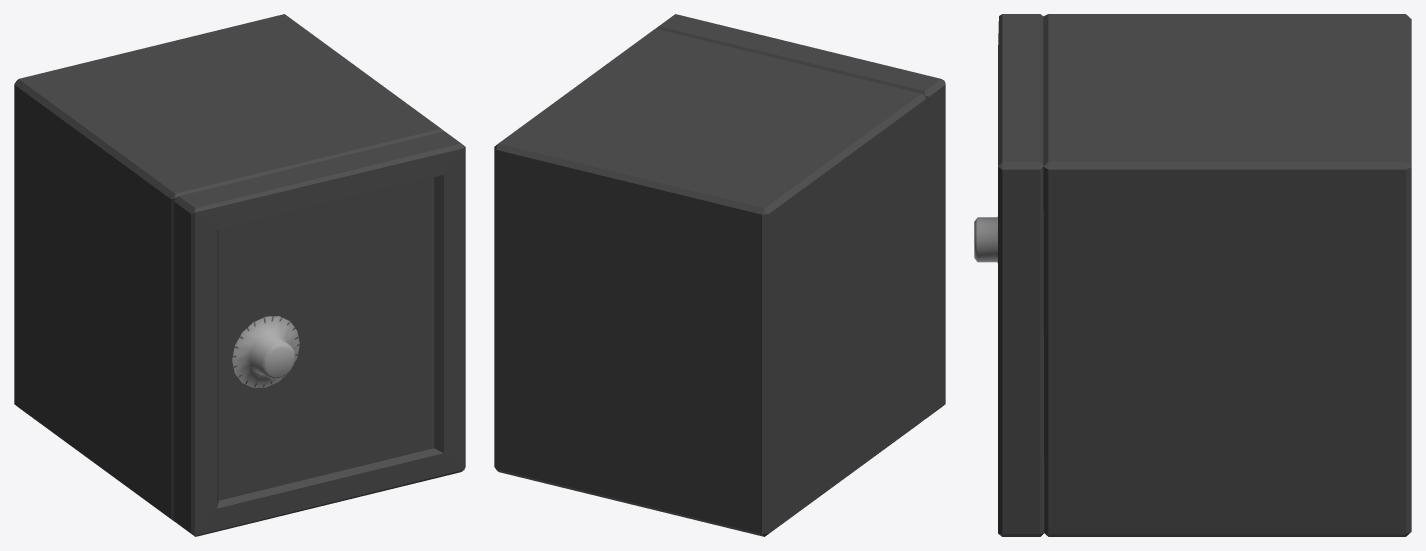
Rendered from safe.obj.
3 renders of one model, left to right at view 1: azimuth 30°, elevation 25°; view 2: azimuth 150°, elevation 25°; view 3: azimuth 270°, elevation 25°, orthographic. The views are drawn at different scales.
Visible parts, largest first — view 1: Cube; view 2: Cube; view 3: Cube.
Part boxes in pixels (box(x1,y1,x2,y2)): Cube: box(14, 14, 465, 536); Cube: box(494, 14, 945, 536); Cube: box(974, 14, 1411, 536).
Bounding box in the file's own units: 0.35 × 0.4 × 0.4227.
1 material, 1 textured.
